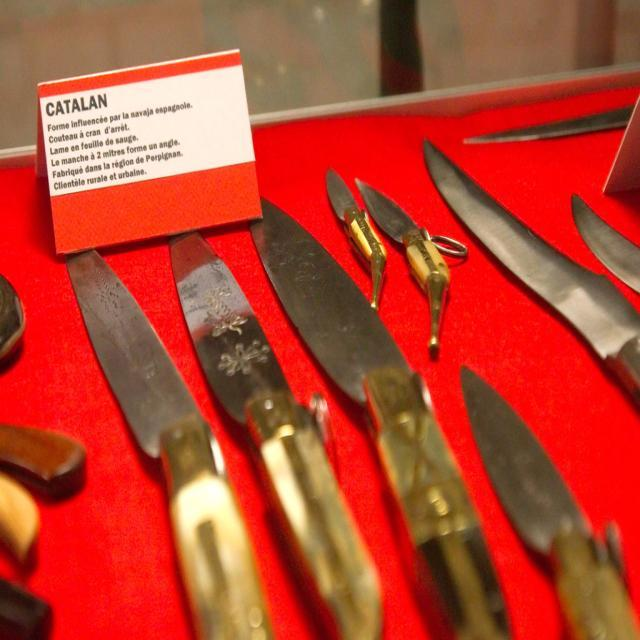Knife: (251, 201, 510, 639), (170, 232, 382, 639), (66, 250, 272, 639), (426, 142, 640, 401), (460, 366, 640, 640), (356, 179, 468, 357), (325, 169, 385, 307), (573, 195, 640, 293), (464, 107, 634, 144)
